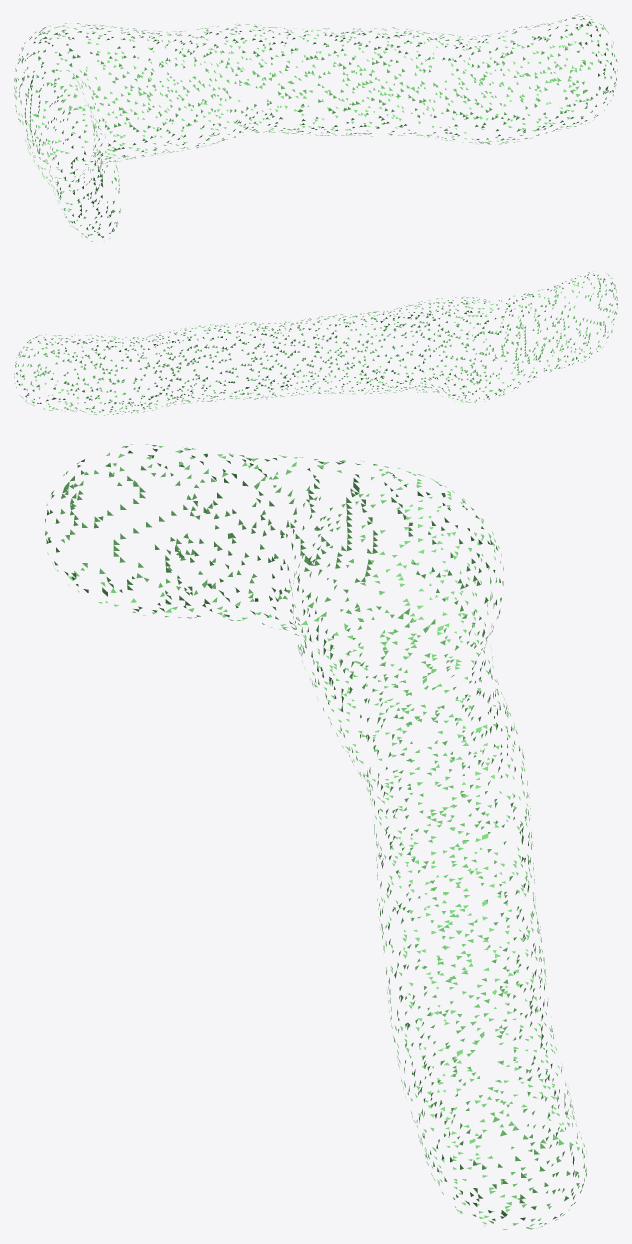
Rendered from morph_017.glb.
3 views of the same model, one above another, from view 1: azimuth 30°, elevation 25°; view 2: azimuth 150°, elevation 25°; view 3: azimuth 270°, elevation 25° (orthographic). The views are drawn at different scales.
Bounding box in the file's own units: 129 × 46.33 × 62.96.
